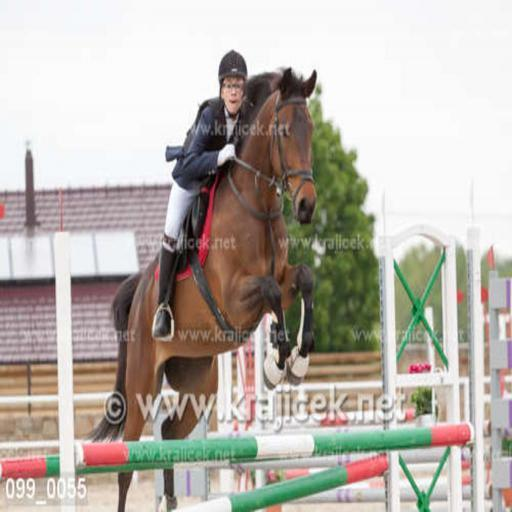horse: (78, 60, 318, 510)
